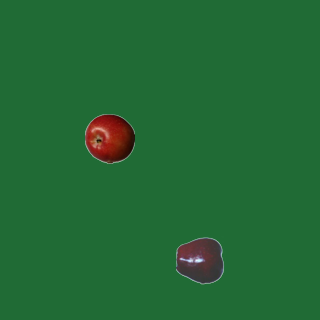Apple Braeburn: (84, 113, 134, 163)
Apple Red Delicious: (175, 235, 225, 285)
